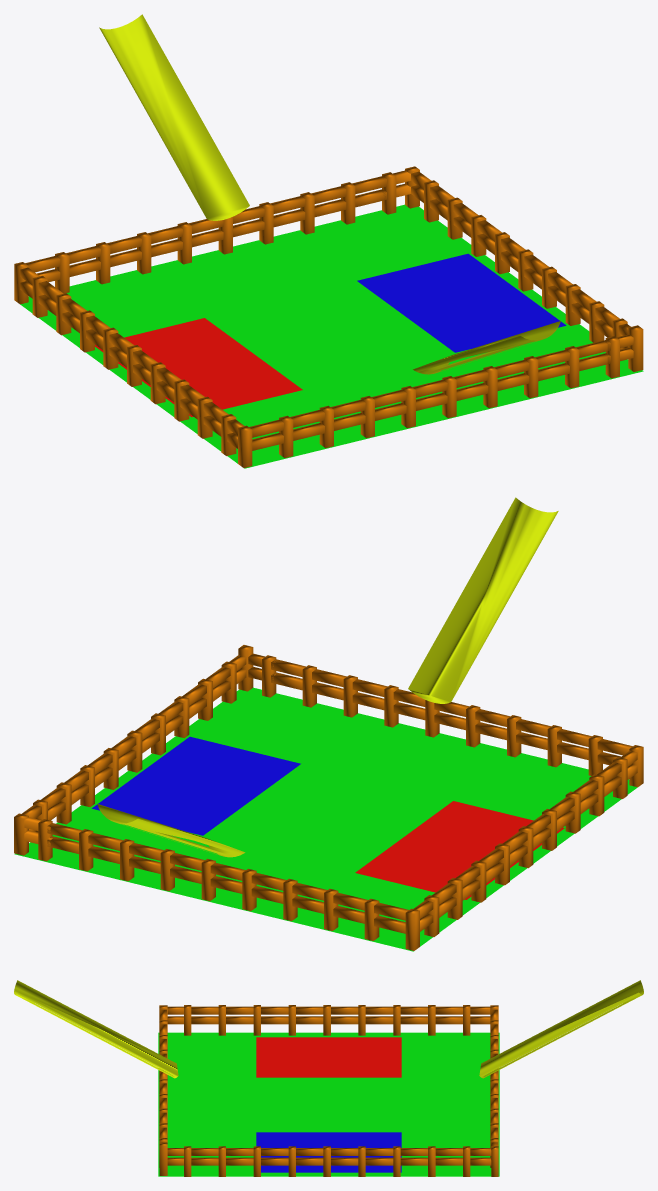
The model's file is HappyHippos3.fbx.
3 renders of one model, top to bottom at view 1: azimuth 30°, elevation 25°; view 2: azimuth 150°, elevation 25°; view 3: azimuth 270°, elevation 25°, orthographic. The views are drawn at different scales.
Visible parts, largest first — view 1: 平面, 立方体.001, 立方体, 平面.002, 円柱.001, 平面.001, 円柱; view 2: 平面, 立方体.001, 立方体, 平面.002, 円柱, 平面.001, 円柱.001; view 3: 平面, 立方体, 平面.001, 平面.002, 円柱, 円柱.001, 立方体.001.
Part boxes in pixels (bbox=[...]): 平面: bbox=[20, 204, 643, 468]; 立方体.001: bbox=[14, 170, 643, 467]; 立方体: bbox=[20, 166, 630, 455]; 平面.002: bbox=[357, 253, 566, 352]; 円柱.001: bbox=[99, 14, 249, 220]; 平面.001: bbox=[95, 318, 302, 417]; 円柱: bbox=[413, 321, 560, 374]; 平面: bbox=[14, 687, 637, 951]; 立方体.001: bbox=[24, 645, 643, 950]; 立方体: bbox=[14, 655, 637, 936]; 平面.002: bbox=[92, 736, 300, 835]; 円柱: bbox=[408, 497, 558, 703]; 平面.001: bbox=[355, 801, 564, 899]; 円柱.001: bbox=[97, 804, 245, 857]; 平面: bbox=[158, 1032, 499, 1176]; 立方体: bbox=[167, 1005, 498, 1176]; 平面.001: bbox=[256, 1037, 401, 1077]; 平面.002: bbox=[256, 1132, 401, 1172]; 円柱: bbox=[14, 980, 178, 1078]; 円柱.001: bbox=[479, 980, 643, 1078]; 立方体.001: bbox=[159, 1005, 498, 1175].
Bounding box in the file's own units: 1465 × 567 × 2691.
